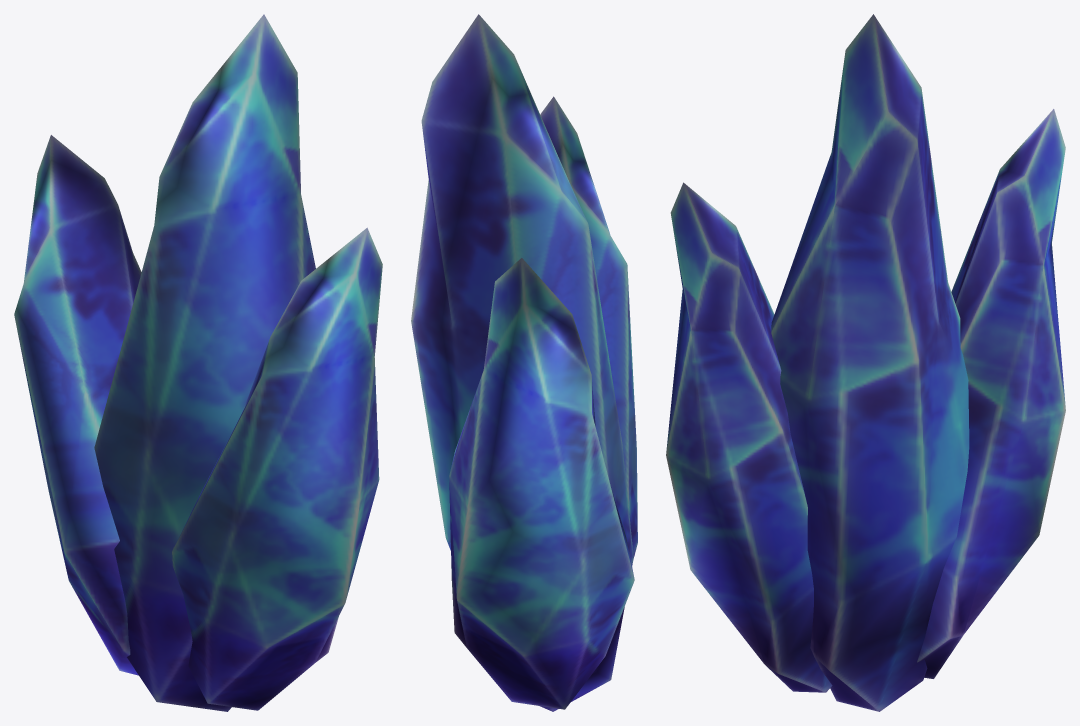
File: Crystal.fbx
The picture shows the model from 3 angles, left to right: view 1: azimuth 30°, elevation 25°; view 2: azimuth 150°, elevation 25°; view 3: azimuth 270°, elevation 25°; orthographic projection. The views are drawn at different scales.
Parts seen in each view (by area): view 1: Crystal; view 2: Crystal; view 3: Crystal.
Boxes of the visible parts, bbox=[...] form: Crystal: bbox=[14, 14, 382, 711]; Crystal: bbox=[411, 14, 637, 711]; Crystal: bbox=[666, 14, 1065, 711].
Size of the model in its own units: 9.8 by 27.01 by 13.64.
1 material, 1 textured.
